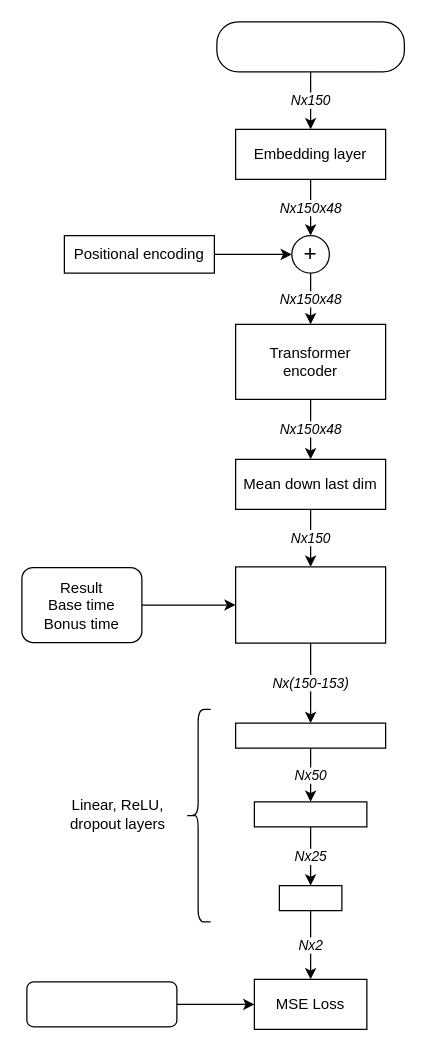
The diagram is 426 pixels wide and 1051 high, and some of its shapes have lost their labels. The shapes that lost their labels are listed below. From the top down, each one's centre as x and y in pixels, then its label:
At point (310, 46): "Move indices".
At point (310, 604): "Optional concatenation Model dependent".
At point (101, 1004): "Actual Elos".
